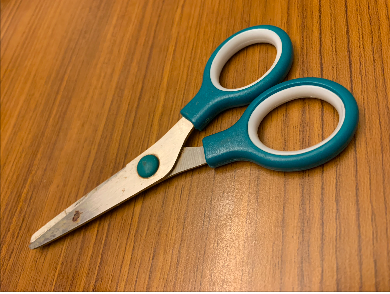object_name: (27, 46, 309, 219)
